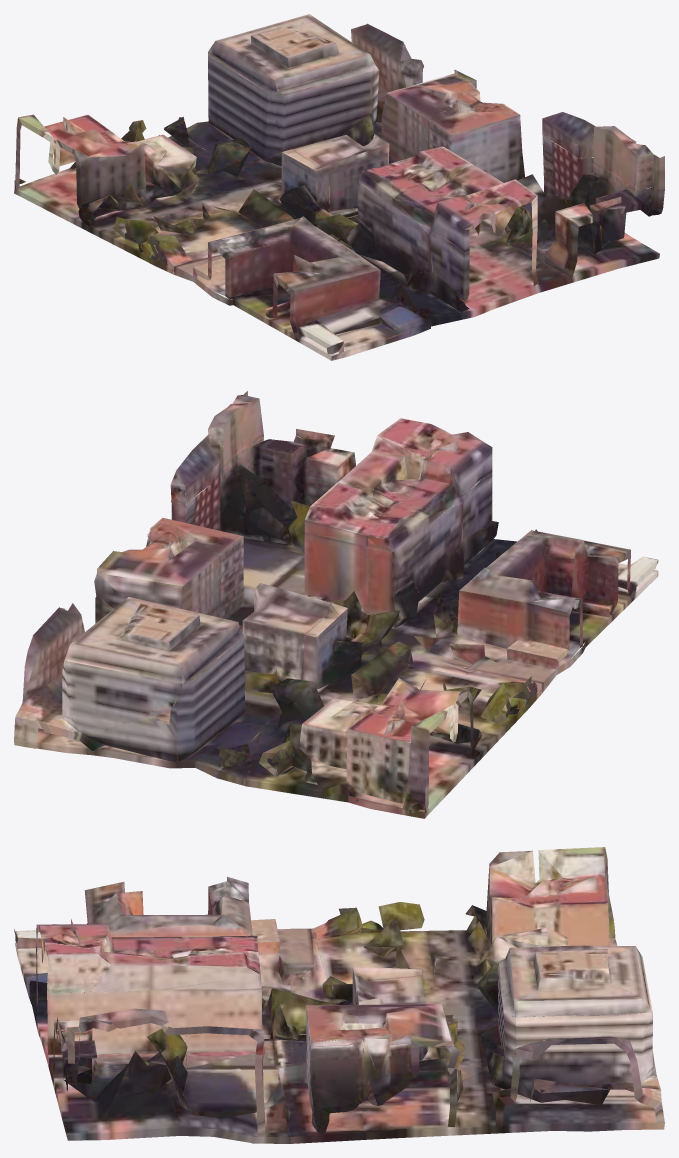
3 renders of one model, top to bottom at view 1: azimuth 30°, elevation 25°; view 2: azimuth 150°, elevation 25°; view 3: azimuth 270°, elevation 25°, orthographic. The views are drawn at different scales.
Parts seen in each view (by area): view 1: Mesh_0; view 2: Mesh_0; view 3: Mesh_0.
Boxes of the visible parts, box(x1,y1,x2,y2) form: Mesh_0: box(14, 14, 664, 360); Mesh_0: box(14, 391, 658, 818); Mesh_0: box(14, 847, 664, 1143).
Bounding box in the file's own units: 135 × 39.3 × 165.
2 materials, 2 textured.
